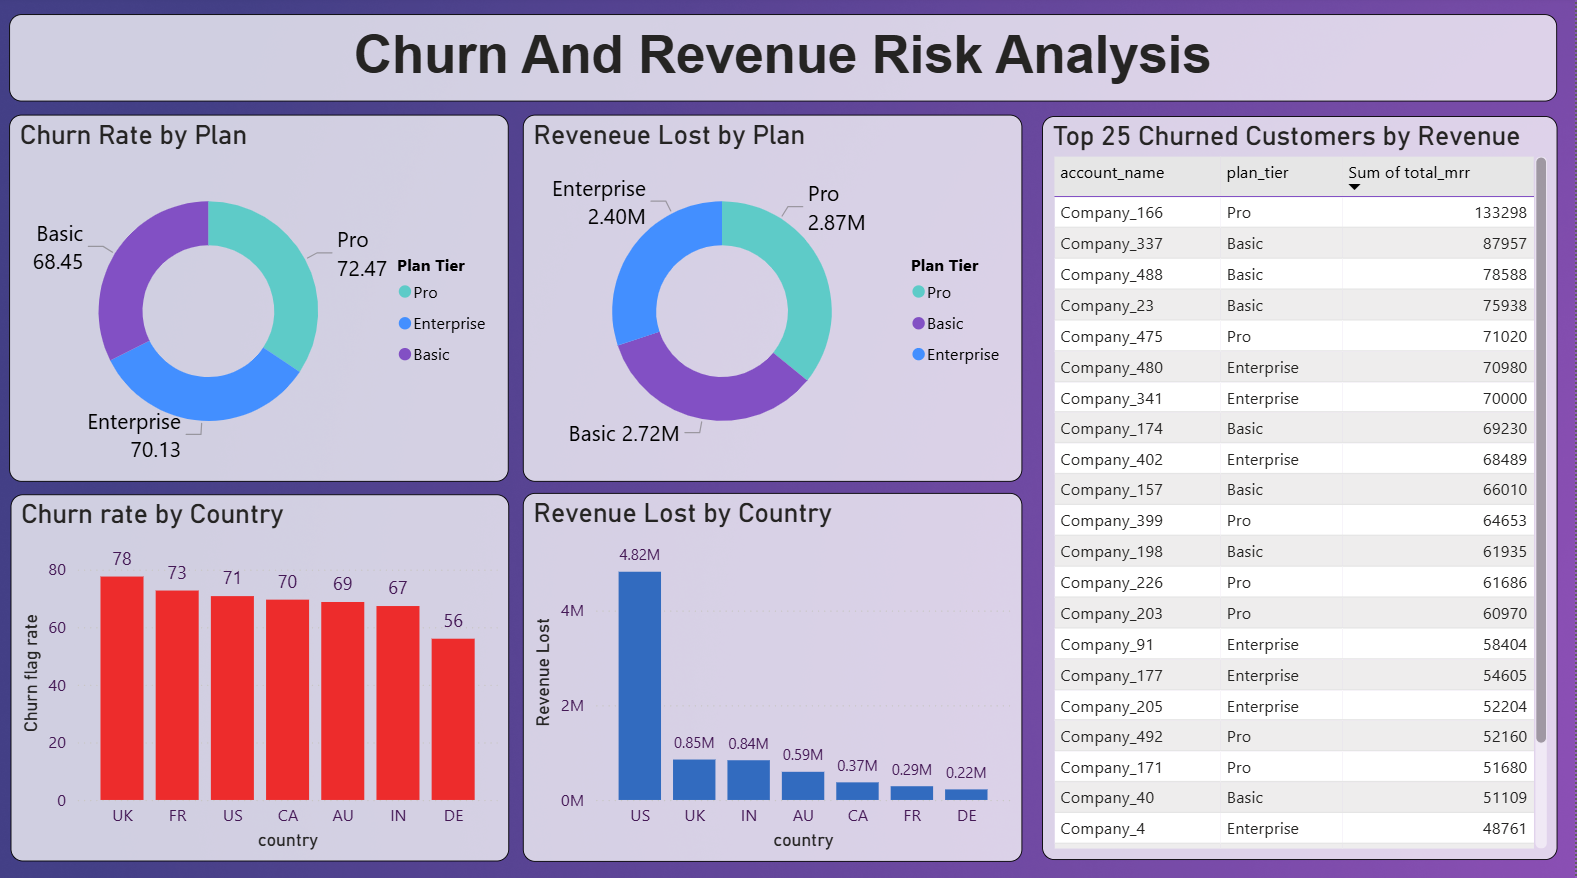

The dashboard page shown, as its layout file describes it:
{"tool":"powerbi","page":{"name":"Page 2","canvas":[1280,720],"ordinal":1},"visuals":[{"type":"textbox","box":[9.5,15,1256.4,70.7],"z":0},{"type":"donutChart","title":"Churn Rate by Plan","fields":{"Category":["account_kpi.plan_tier"],"Y":["account_kpi.Churn flag rate"]},"box":[9.5,96.5,405.2,297.8],"z":1000},{"type":"donutChart","title":"Reveneue Lost by Plan","fields":{"Category":["account_kpi.plan_tier"],"Y":["account_kpi.Revenue Lost"]},"box":[425.6,96.5,405.2,297.8],"z":2000},{"type":"clusteredColumnChart","title":"Churn rate by Country","fields":{"Y":["account_kpi.Churn flag rate"],"Category":["account_kpi.country"]},"box":[10,404,405,298],"z":3000},{"type":"clusteredColumnChart","title":"Revenue Lost by Country","fields":{"Category":["account_kpi.country"],"Y":["account_kpi.Revenue Lost"]},"box":[425.6,403.8,405.2,299.1],"z":4000},{"type":"tableEx","title":"Top 25 Churned Customers by Revenue","fields":{"Values":["account_kpi.account_name","account_kpi.plan_tier","Sum(account_kpi.total_mrr)"]},"box":[847.4,97.6,418.7,604.1],"z":5000}]}

Visuals, with their boxes in screenshot pixels (x1, y1, x2, y2), scaled from the page's 1280x720 canvas onto the 1577x878 screenshot:
textbox: 12, 18, 1560, 105
"Churn Rate by Plan" donutChart: 12, 118, 511, 481
"Reveneue Lost by Plan" donutChart: 524, 118, 1024, 481
"Churn rate by Country" clusteredColumnChart: 12, 493, 511, 856
"Revenue Lost by Country" clusteredColumnChart: 524, 492, 1024, 857
"Top 25 Churned Customers by Revenue" tableEx: 1044, 119, 1560, 856
